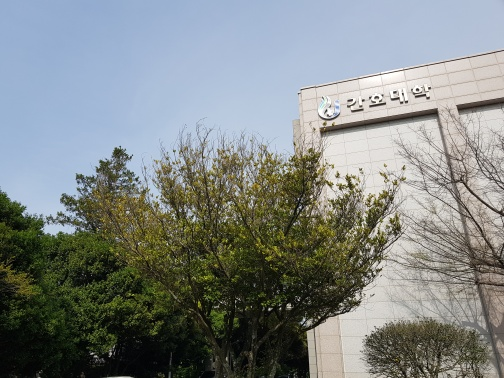College of Nursing: (288, 54, 503, 344), (305, 75, 441, 121)
